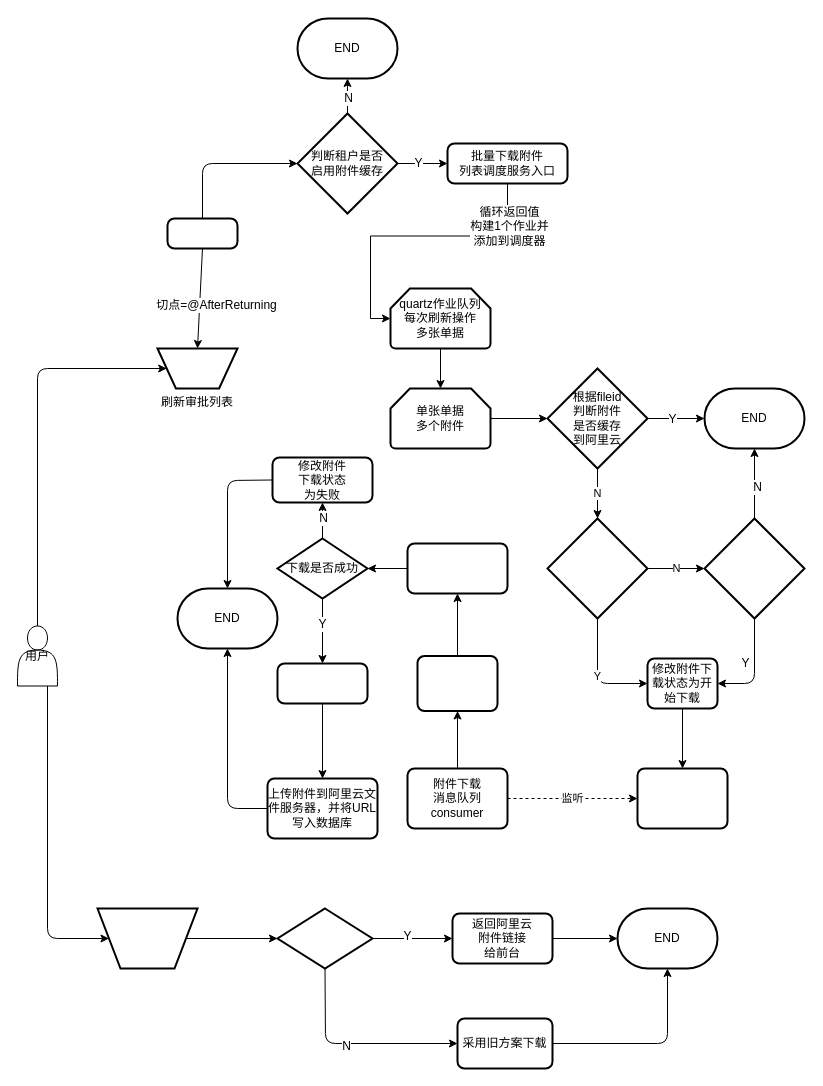
This 823x1086 diagram has some shape labels left out. The centre of each missing label's shape, as x and y in pixels:
"aop切面" goes at [202,233].
"修改附件 下载状态 为成功" goes at [322,683].
"修改附件下载状态为下载中" goes at [457,683].
"判断是否 下载中并 超过了 3分钟" goes at [754,568].
"判断是否 下载失败" goes at [597,568].
"判断附件 是否缓存 到阿里云" goes at [324,938].
"点击附件下载" goes at [147,938].
"通过友企联 单独网关 去NC下载附件" goes at [457,568].
"附件下载 消息队列 sender" goes at [682,798].
